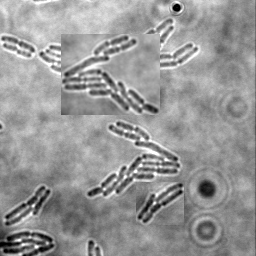Dividing: (1, 34, 37, 52), (3, 41, 33, 57)
Microcolony: (40, 18, 199, 89), (61, 34, 160, 115), (87, 120, 181, 197), (136, 182, 184, 225), (5, 184, 52, 226), (1, 230, 56, 255)
